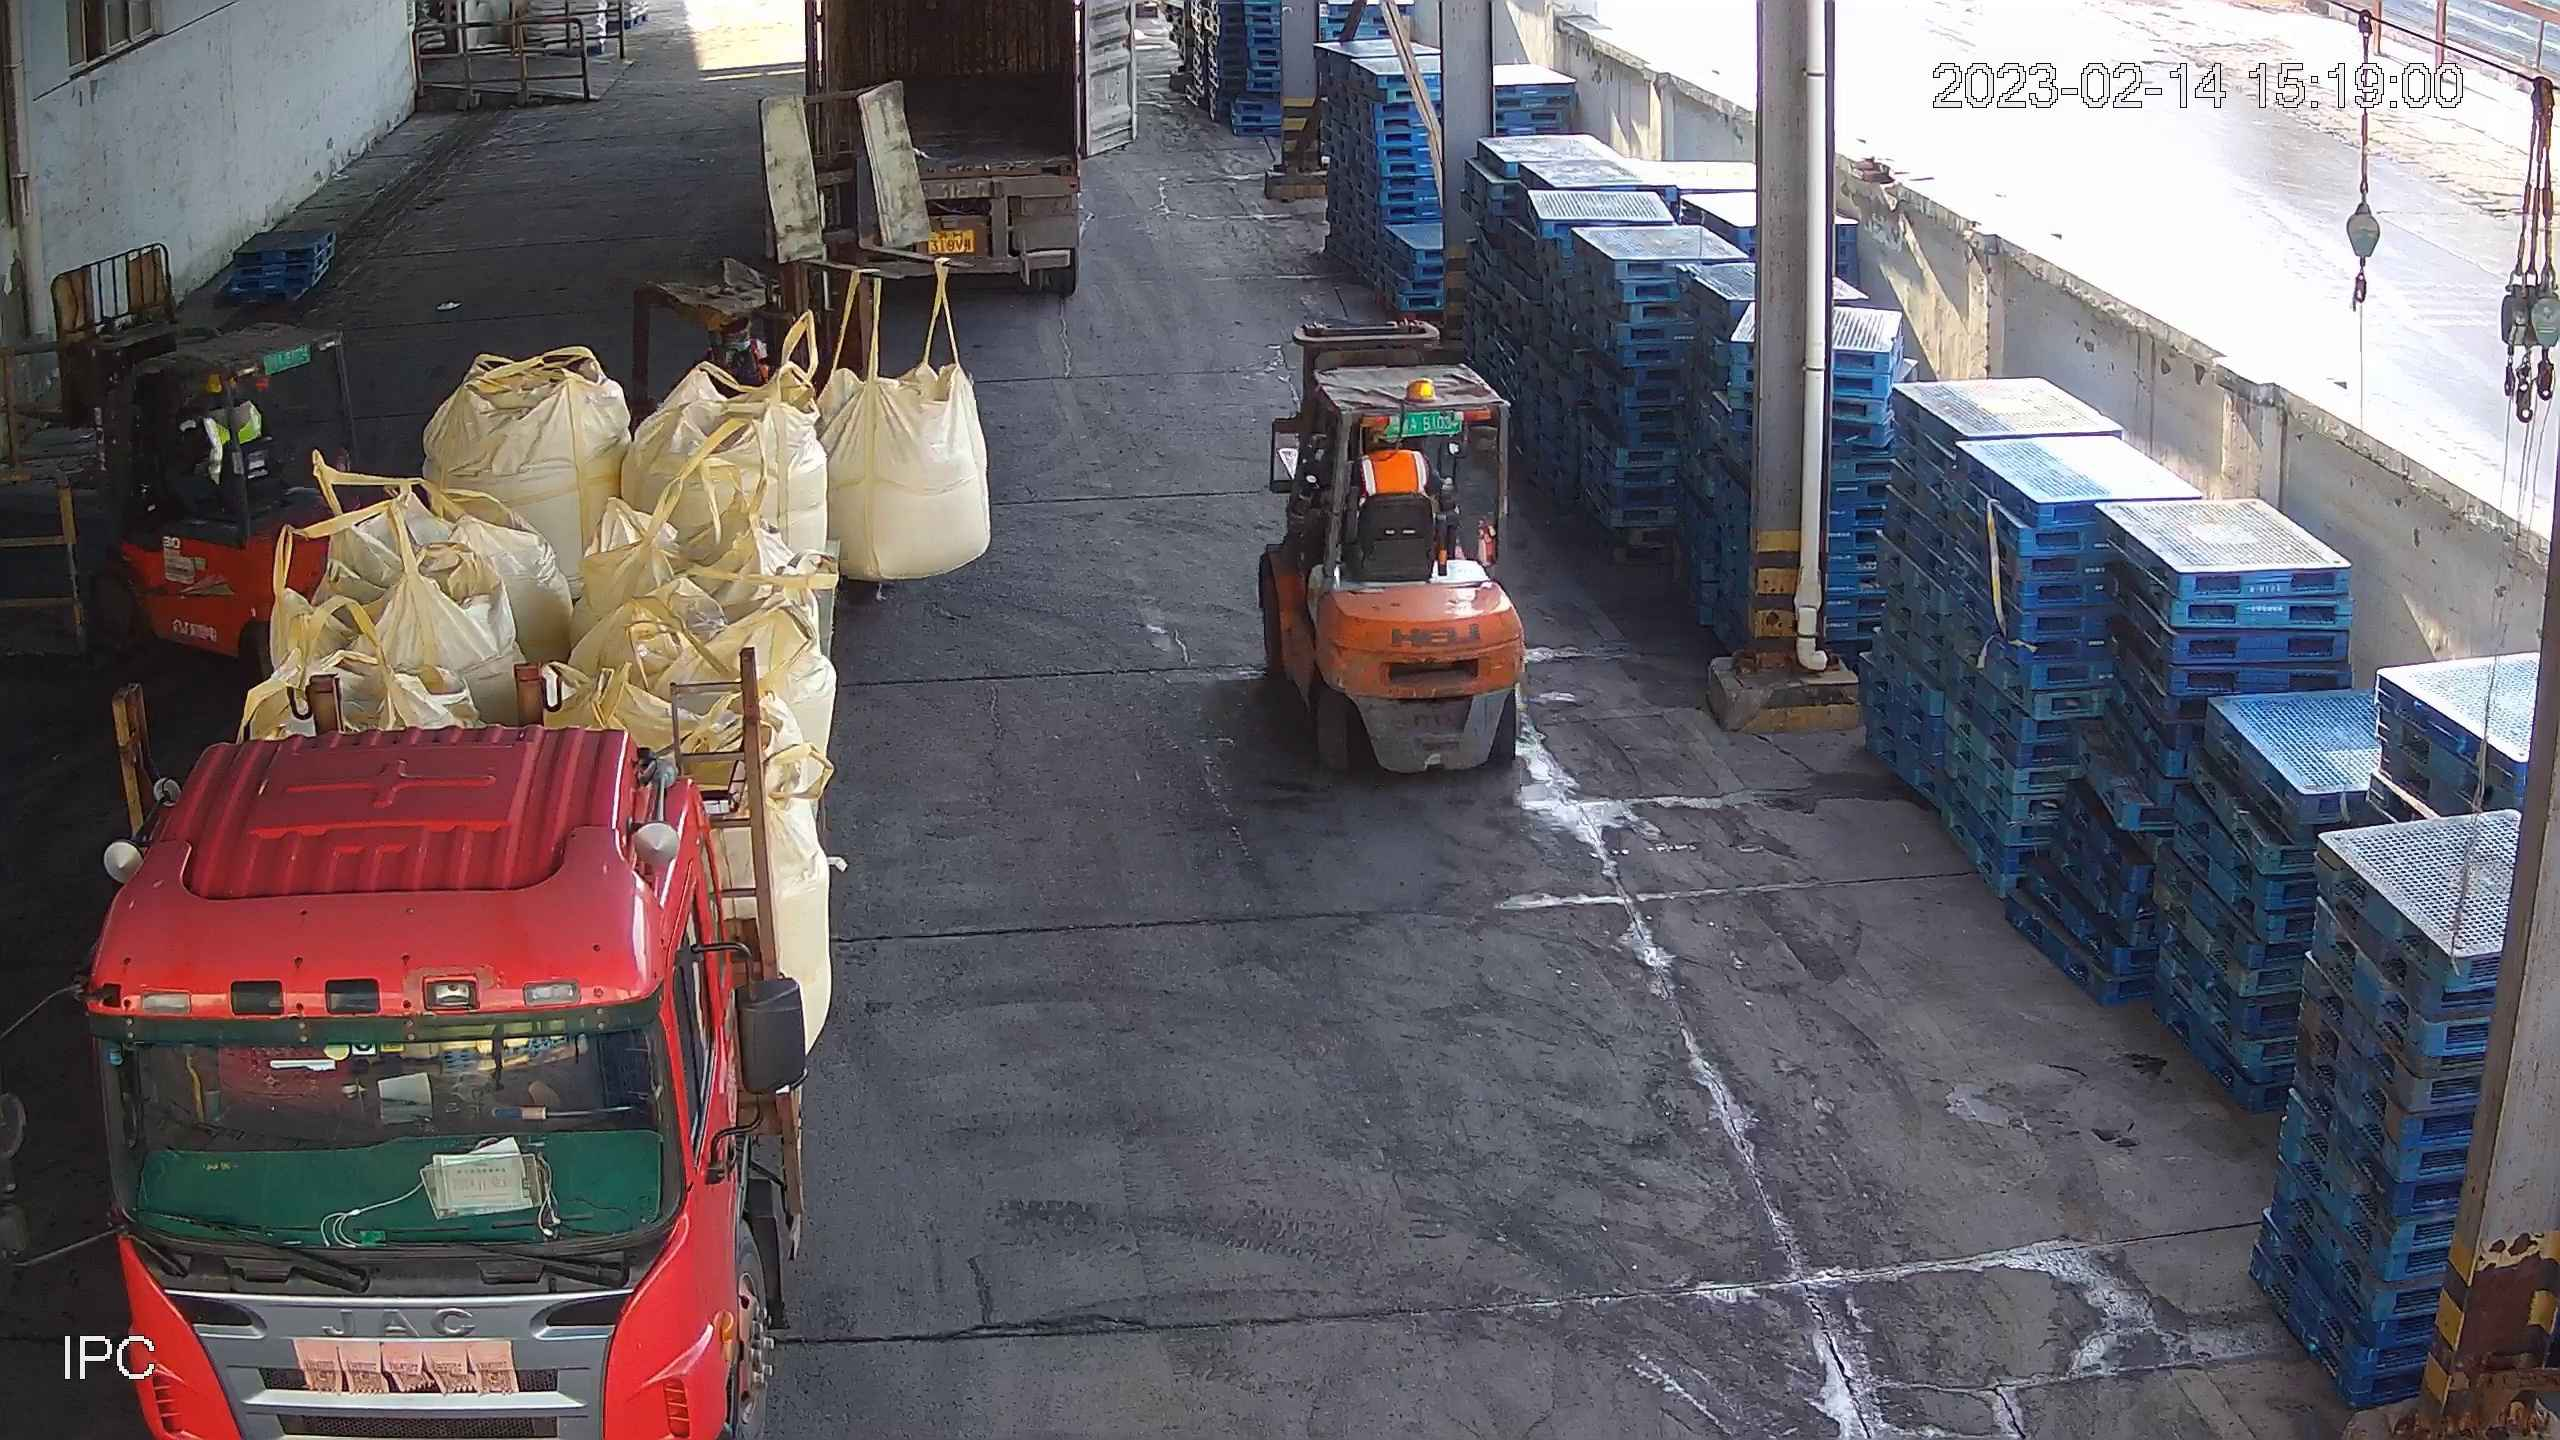truck: (84, 255, 860, 1440), (786, 4, 1157, 306)
